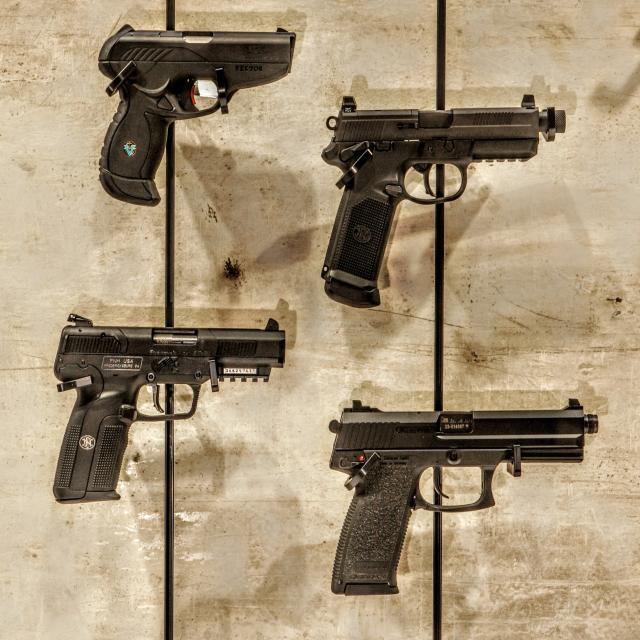HandGun: (329, 400, 600, 599), (322, 96, 568, 309), (54, 314, 287, 506), (99, 27, 297, 207)
